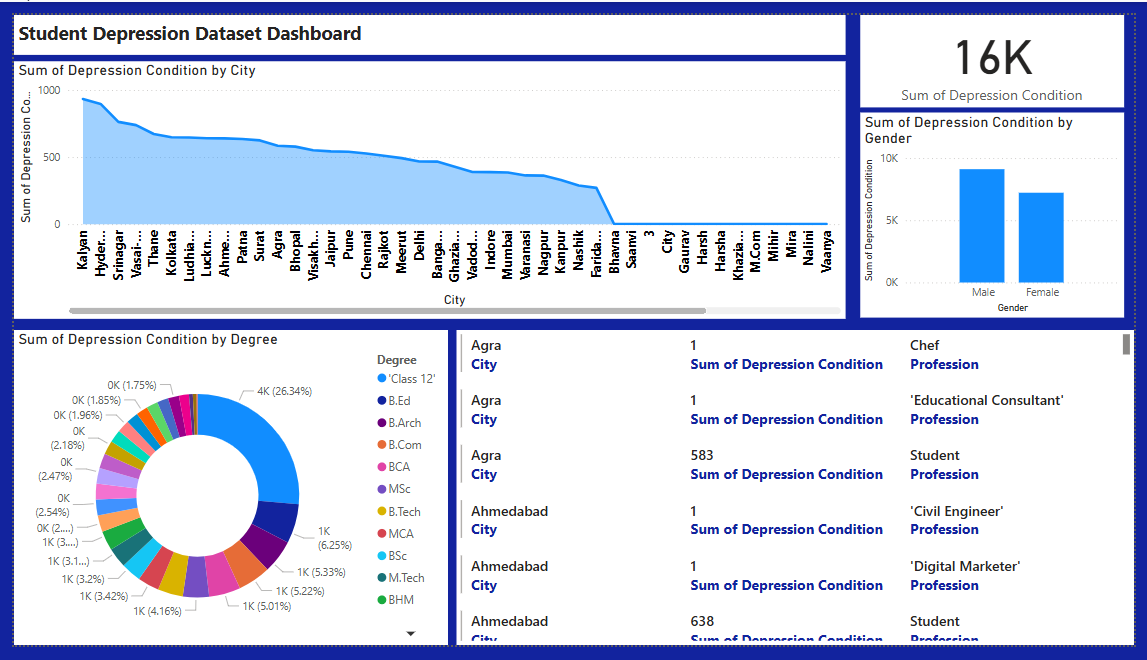

This screenshot's page, from the dashboard's own definition file:
{"tool":"powerbi","page":{"name":"Page 1","canvas":[1280,720],"ordinal":0},"visuals":[{"type":"clusteredColumnChart","fields":{"Category":["student_depression_dataset.Gender"],"Y":["student_depression_dataset.Depression Condition"]},"box":[967.1,111.4,301.4,234.3],"z":0},{"type":"donutChart","fields":{"Y":["student_depression_dataset.Depression Condition"],"Category":["student_depression_dataset.Degree"]},"box":[0,360,495.7,360],"z":1000},{"type":"card","fields":{"Values":["student_depression_dataset.Depression Condition"]},"box":[967.1,0,301.4,105.7],"z":2000},{"type":"areaChart","fields":{"Category":["student_depression_dataset.City"],"Y":["student_depression_dataset.Depression Condition"]},"box":[0,52.9,950,294.3],"z":3000},{"type":"multiRowCard","fields":{"Values":["student_depression_dataset.City","student_depression_dataset.Depression Condition","student_depression_dataset.Profession"]},"box":[505.7,360,774.3,360],"z":4000},{"type":"textbox","box":[0,0,950,45.7],"z":4001}]}

Visuals, with their boxes in screenshot pixels (x1, y1, x2, y2), scaled from the page's 1280x720 canvas onto the 1147x660 screenshot:
clusteredColumnChart - student_depression_dataset.Gender x student_depression_dataset.Depression Condition: {"left": 867, "top": 102, "right": 1137, "bottom": 317}
donutChart - student_depression_dataset.Depression Condition x student_depression_dataset.Degree: {"left": 0, "top": 330, "right": 444, "bottom": 659}
card - student_depression_dataset.Depression Condition: {"left": 867, "top": 0, "right": 1137, "bottom": 97}
areaChart - student_depression_dataset.City x student_depression_dataset.Depression Condition: {"left": 0, "top": 48, "right": 851, "bottom": 318}
multiRowCard - student_depression_dataset.City x student_depression_dataset.Depression Condition: {"left": 453, "top": 330, "right": 1146, "bottom": 659}
textbox: {"left": 0, "top": 0, "right": 851, "bottom": 42}
